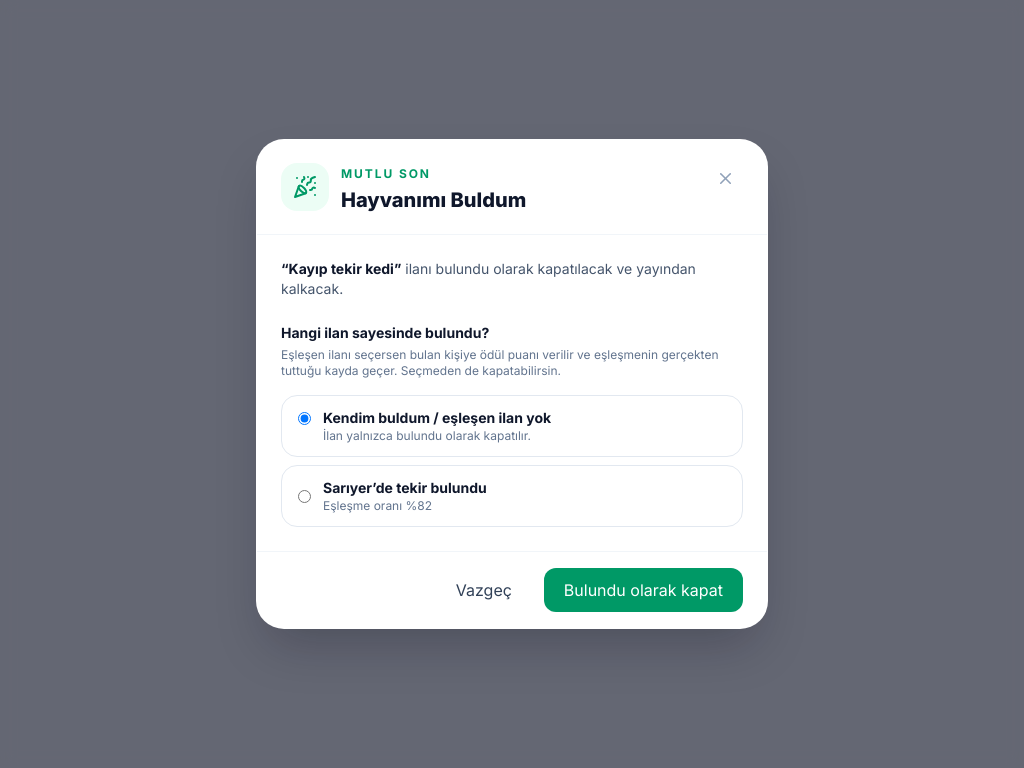
Test: ResolveFoundModal — telde giden istek › sunucu reddederse hata gosterilir ve basari BILDIRILMEZ
The image size is (1024, 768).
Click the button "Bulundu olarak kapat".
click(643, 590)  # box [544, 568, 743, 612]
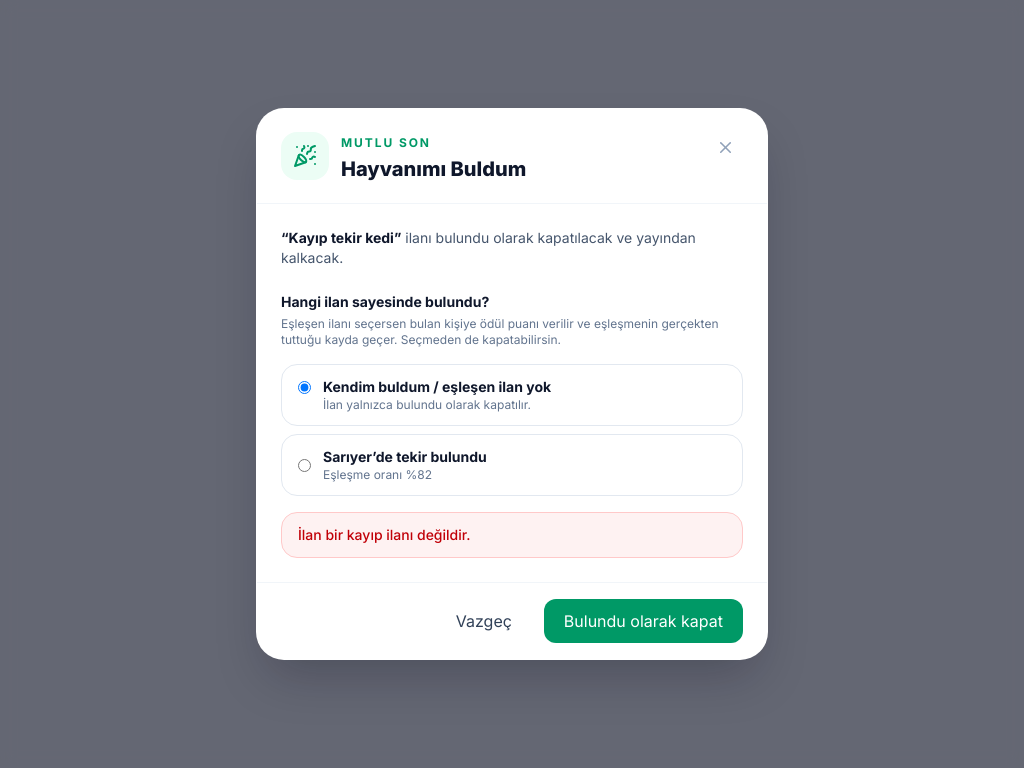
Now the message "İlan bir kayıp ilanı değildir." is shown, box [281, 512, 743, 558]
